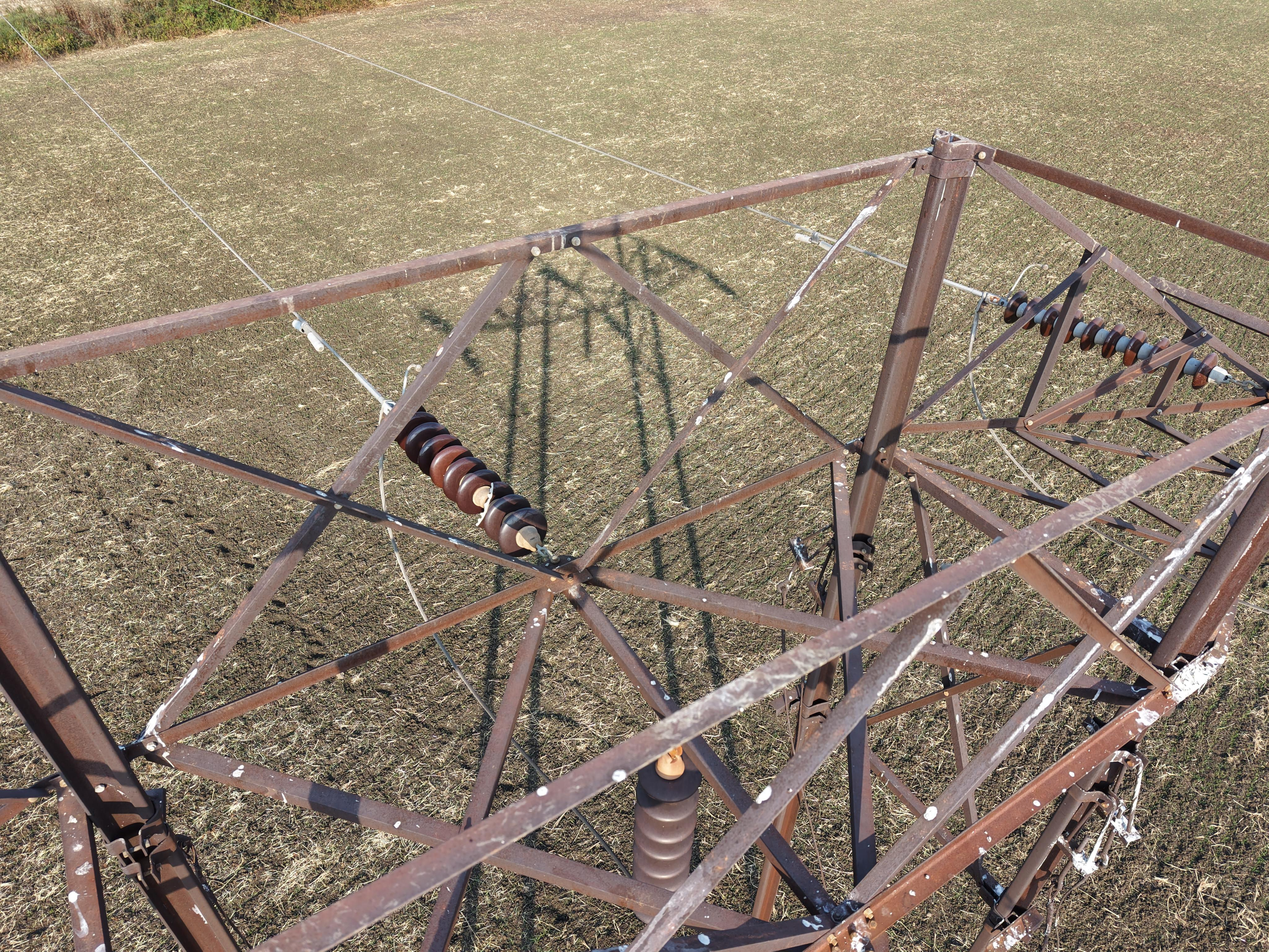broken_insulator: (469, 479, 499, 531)
